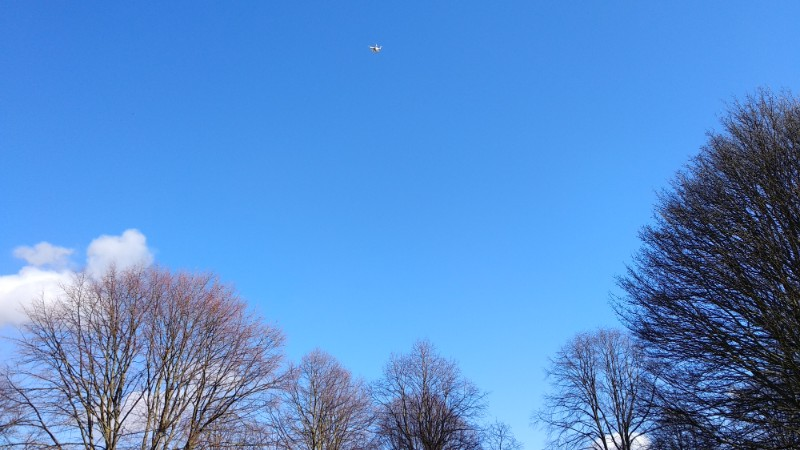drone: (367, 42, 384, 53)
